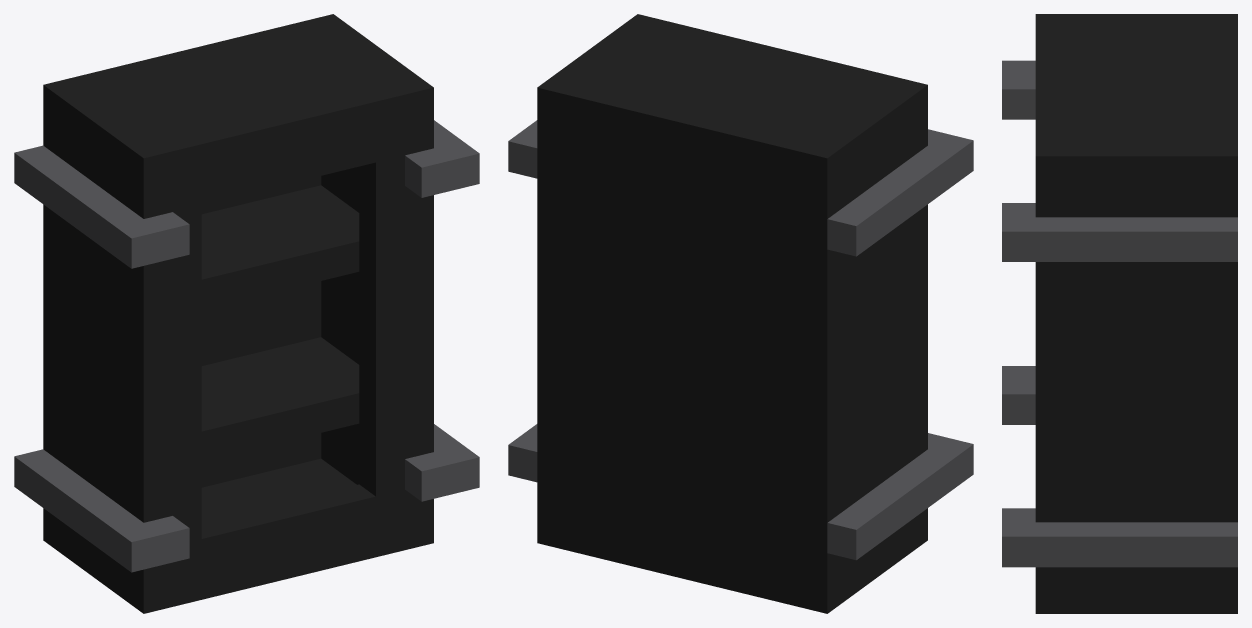
File: safe_01.fbx
3 views of the same model, side by side, from view 1: azimuth 30°, elevation 25°; view 2: azimuth 150°, elevation 25°; view 3: azimuth 270°, elevation 25° (orthographic).
Parts seen in each view (by area): view 1: safe_01_0; view 2: safe_01_0; view 3: safe_01_0.
Part boxes in pixels (x1,y1,x2,y2): safe_01_0: (14,14,479,613); safe_01_0: (508,14,973,613); safe_01_0: (1002,14,1237,613).
Bounding box in the file's own units: 1200 × 700 × 1500.
